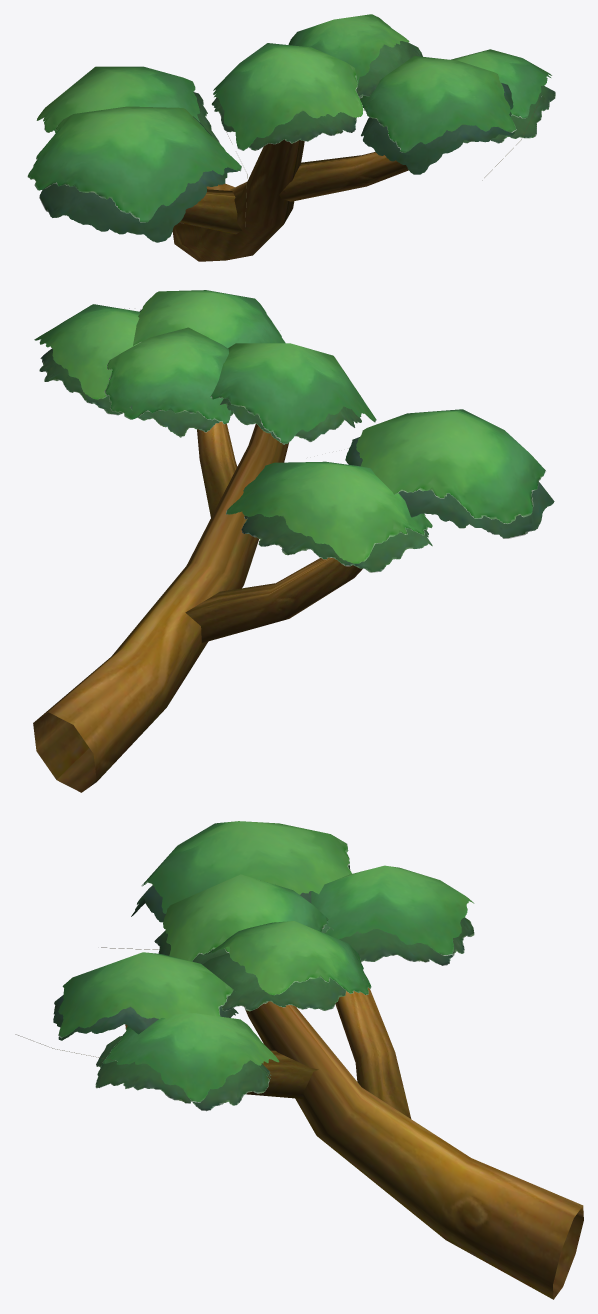
File: gonghui_shu_01 (5).fbx
3 views of the same model, one above another, from view 1: azimuth 30°, elevation 25°; view 2: azimuth 150°, elevation 25°; view 3: azimuth 270°, elevation 25° (orthographic). The views are drawn at different scales.
Parts seen in each view (by area): view 1: gonghui_shu_01 (5), Cylinder049; view 2: gonghui_shu_01 (5), Cylinder049; view 3: gonghui_shu_01 (5), Cylinder049.
Boxes of the visible parts, x1,y1,x2,y2 form: gonghui_shu_01 (5): (27, 14, 555, 242); Cylinder049: (172, 139, 408, 261); gonghui_shu_01 (5): (34, 290, 554, 572); Cylinder049: (33, 421, 362, 792); gonghui_shu_01 (5): (15, 821, 474, 1111); Cylinder049: (125, 988, 583, 1299).
Bounding box in the file's own units: 4.53 × 2.78 × 3.76.
